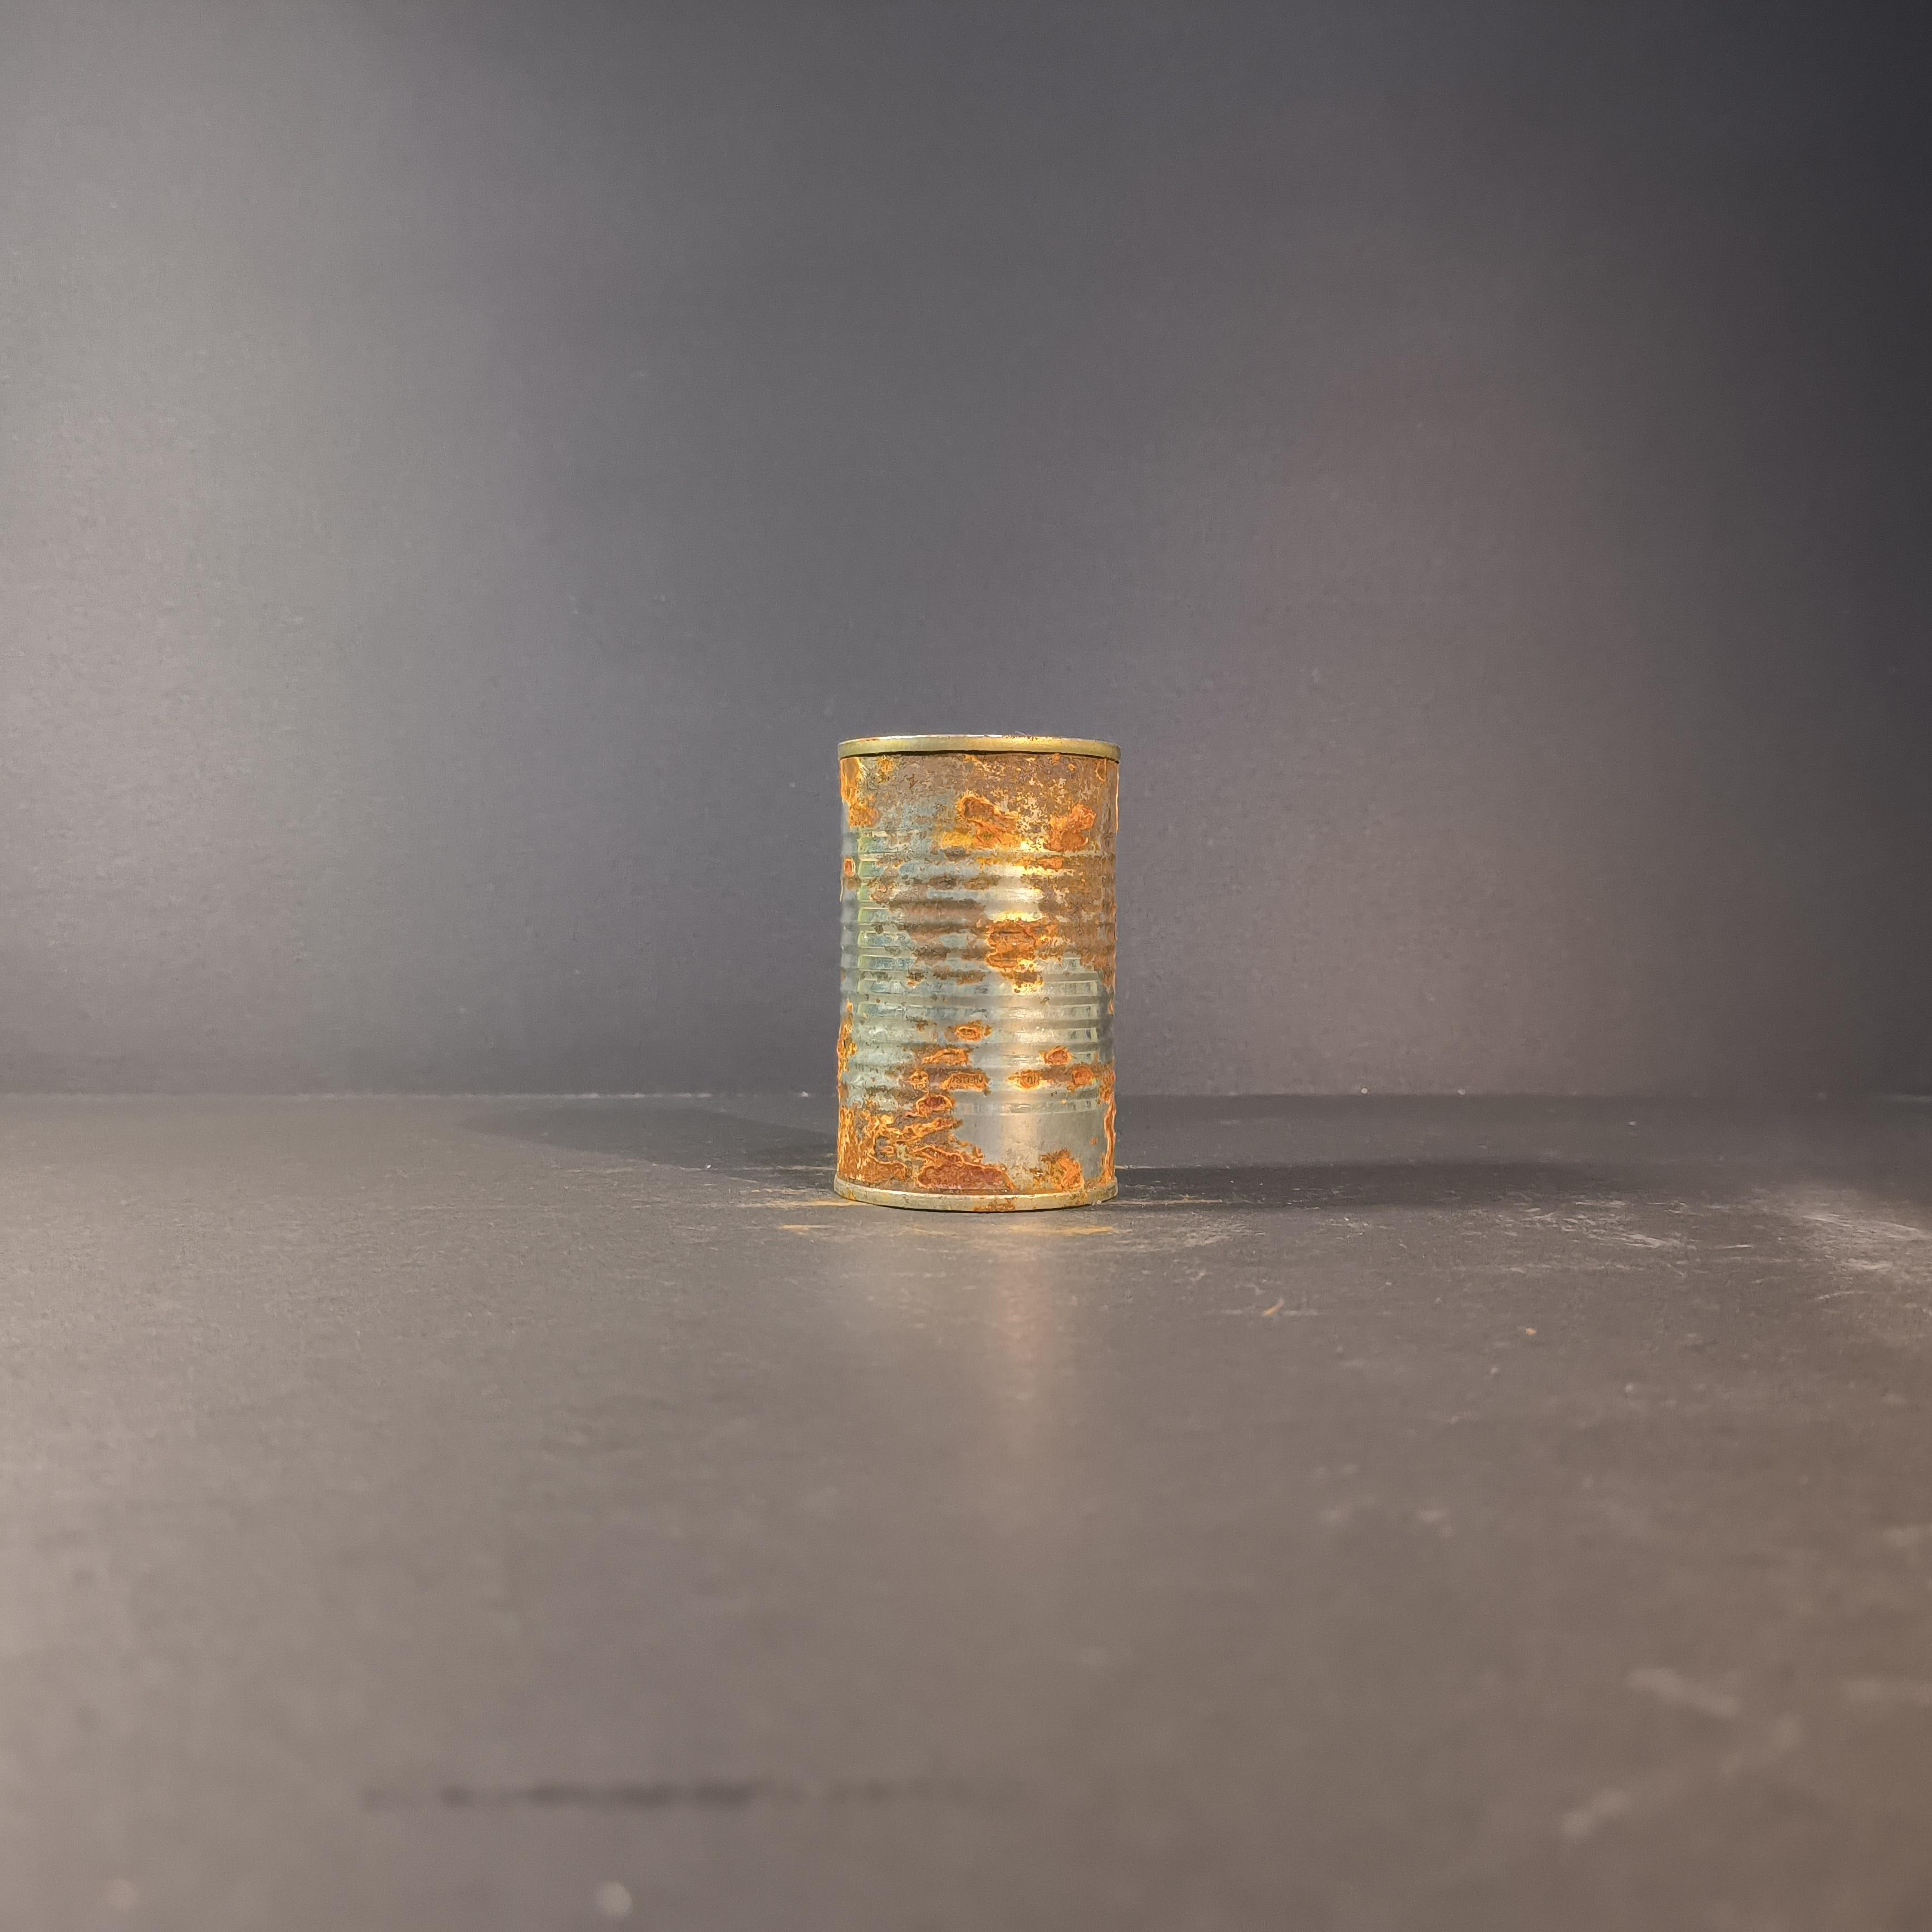Rusted: (823, 704, 1132, 1230)
